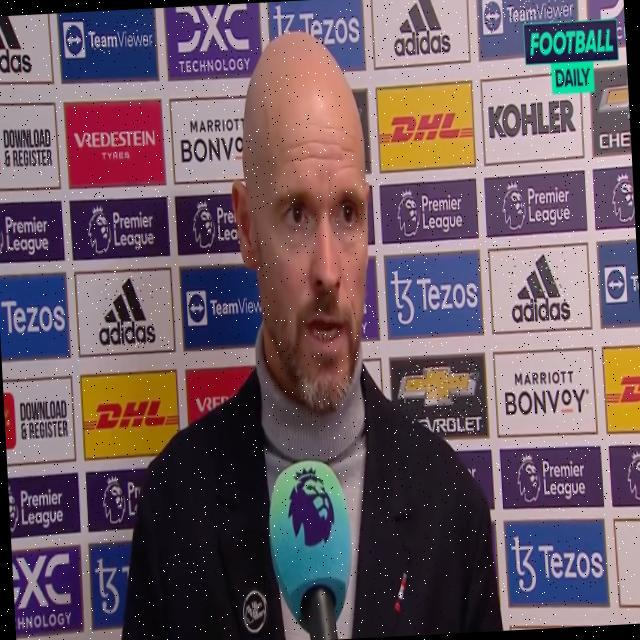Adidas: (508, 251, 571, 325), (97, 276, 158, 351), (391, 0, 450, 59)
Chevrolet: (399, 360, 485, 438)
TeamViewer: (65, 18, 155, 57), (482, 0, 575, 35)
